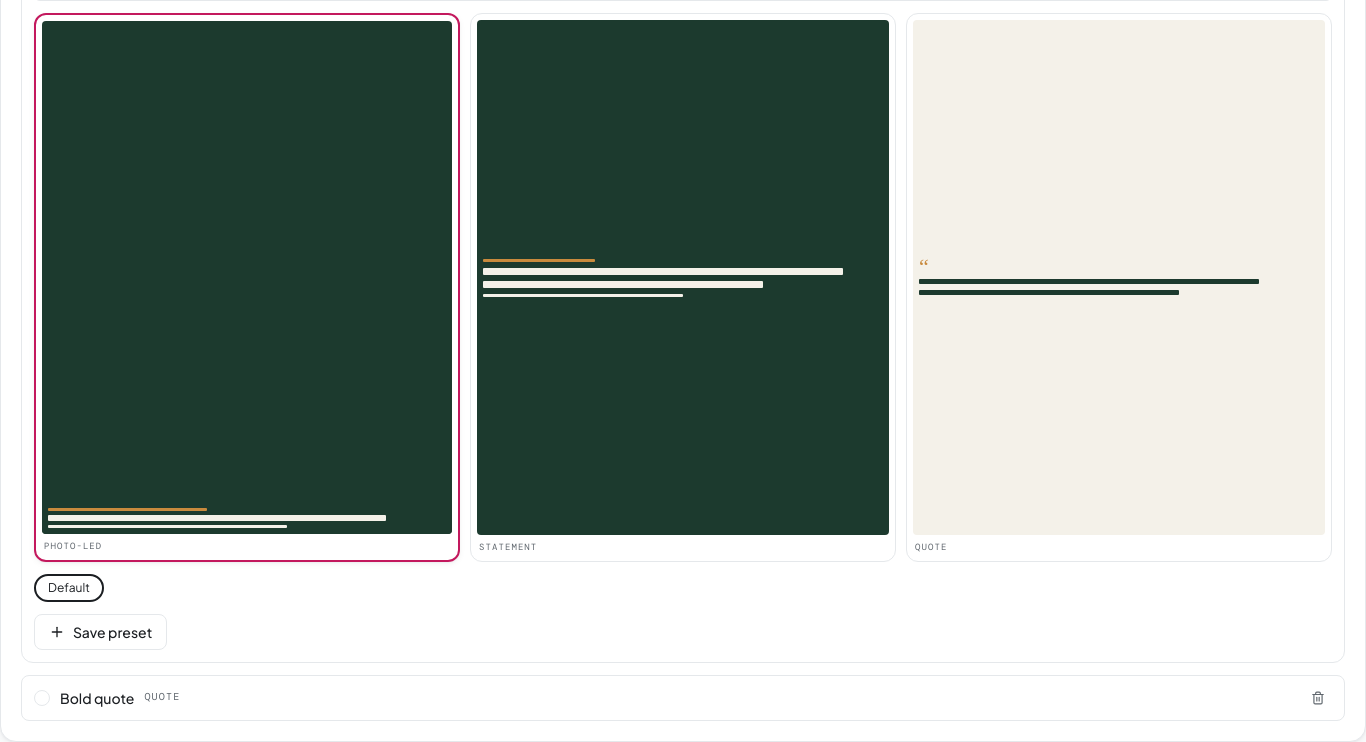
removing a card preset › keeps the dialog open with the server's reason when the remove fails
This screenshot has width=1366, height=742.
(page scrolled)
What coordinates should you click on to do the following:
click the button named "Remove Bold quote"
I would click on:
 (1318, 698)
Its box is [1304,684,1332,712].
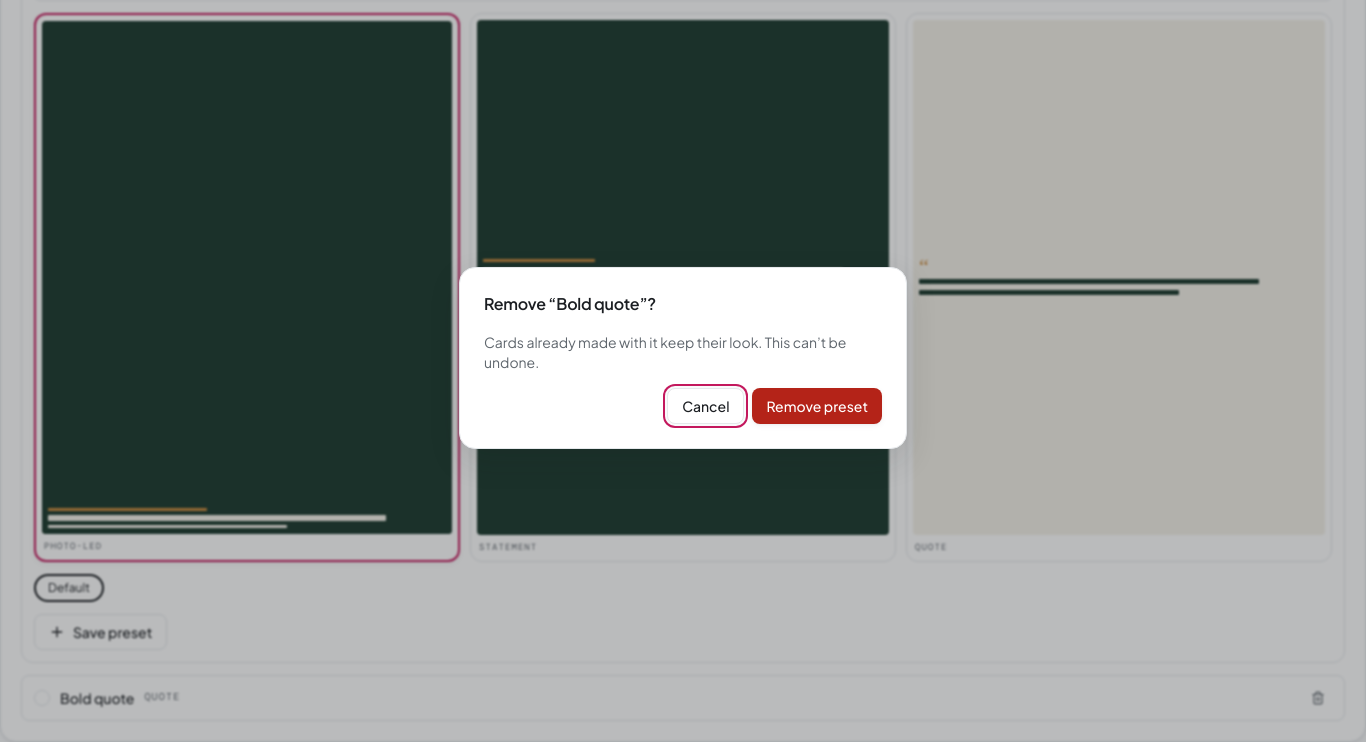
What coordinates should you click on to do the following:
click the button "Remove preset"
I would click on:
 (817, 406)
Its box is [752,388,882,424].
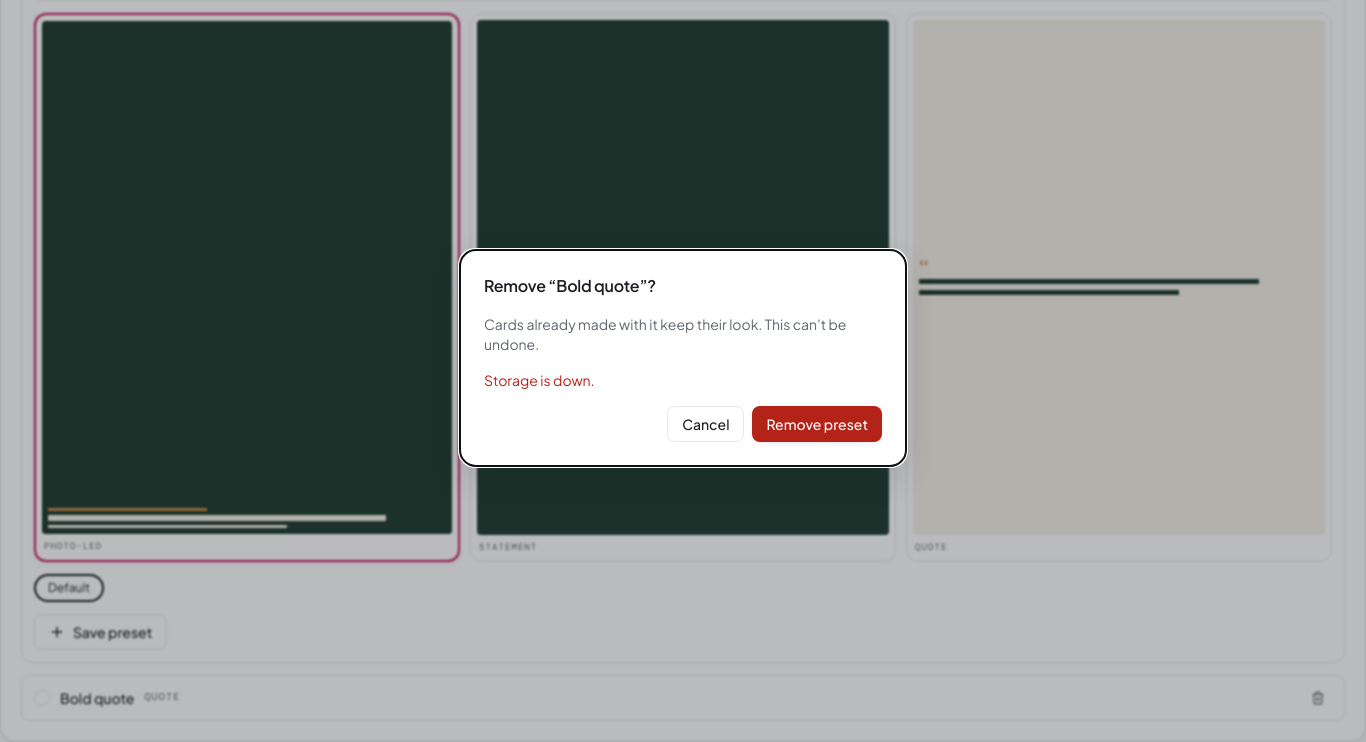
expect the dialog "Remove “Bold quote”?" is shown: met, box [459,249,907,467]
expect the message reads "Storage is down.": met, box [484,371,595,389]
